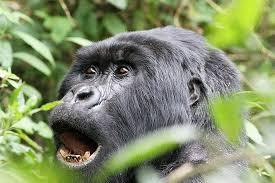gorille_Autres: (40, 19, 275, 178)
